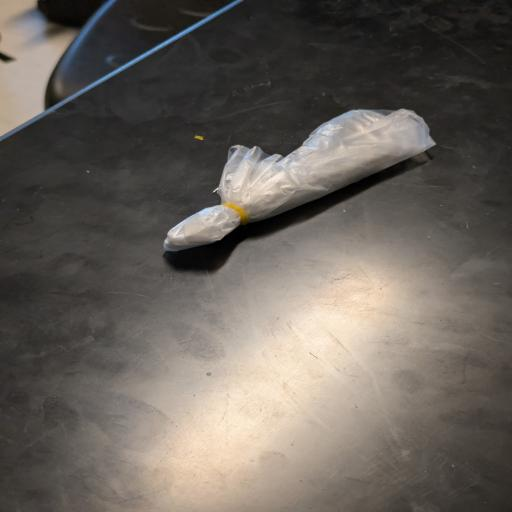rubberband: (158, 104, 441, 255)
